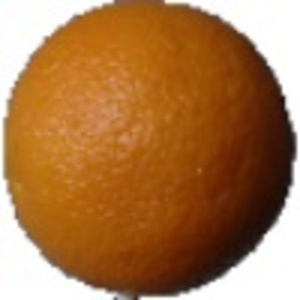laranja: (3, 5, 294, 295)
